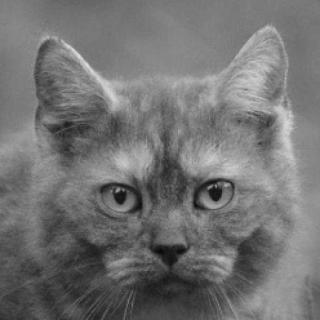cat: (28, 25, 294, 296)
nose: (148, 216, 191, 267)
